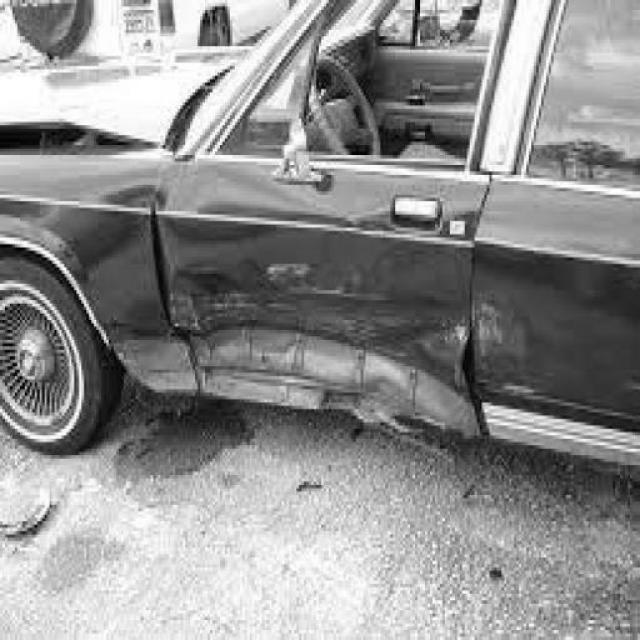crush: (1, 121, 512, 441)
